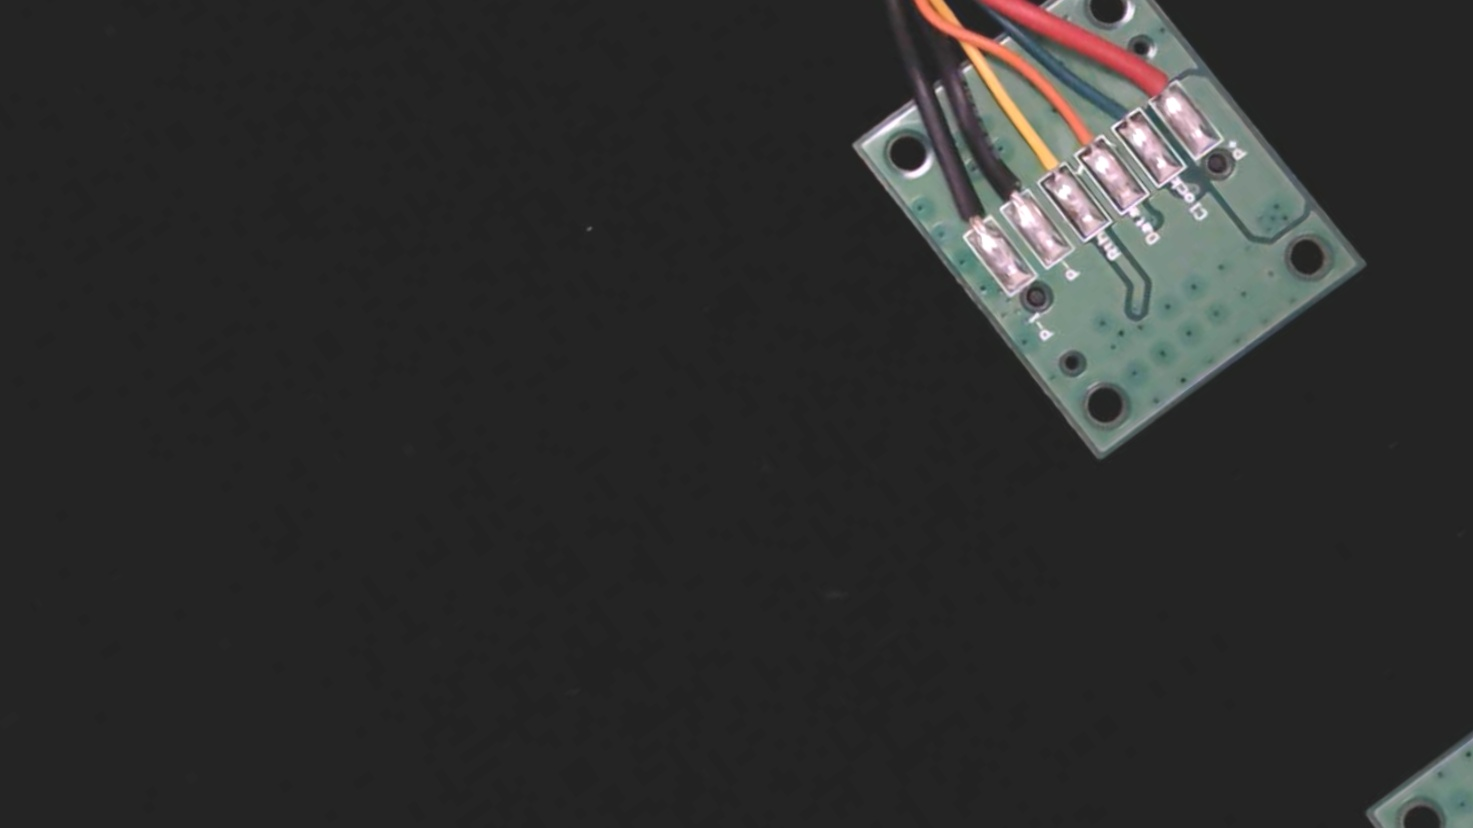Black: (964, 140, 1040, 222)
Black1: (929, 172, 1003, 250)
Green: (1076, 64, 1152, 143)
Orange: (1037, 84, 1115, 167)
Red: (1112, 37, 1189, 115)
Yellow: (1003, 114, 1079, 194)
